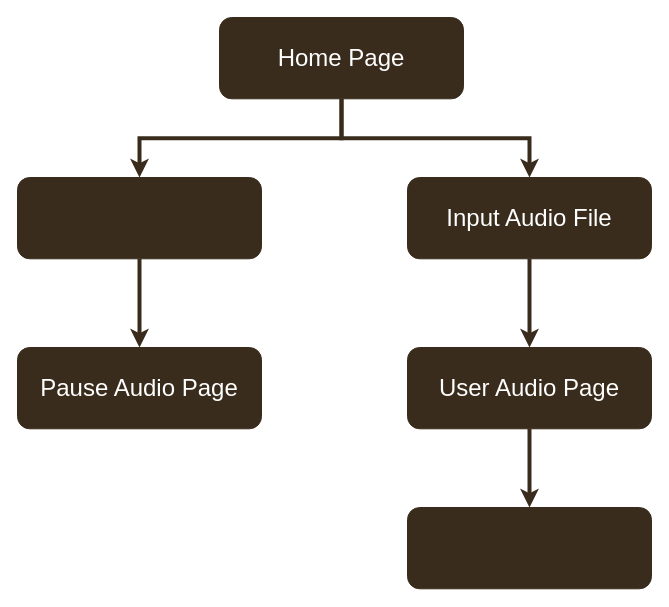
The diagram is 669 pixels wide and 607 high, and some of its shapes have lost their labels. Each missing label, with the centre of its shape:
"Note Analysis" goes at pixel 529 547.
"Sample Audio Page" goes at pixel 139 217.
